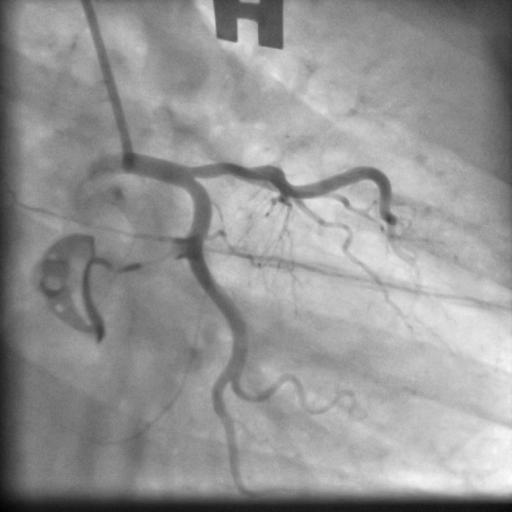Stenosis: (202, 159, 255, 179)
